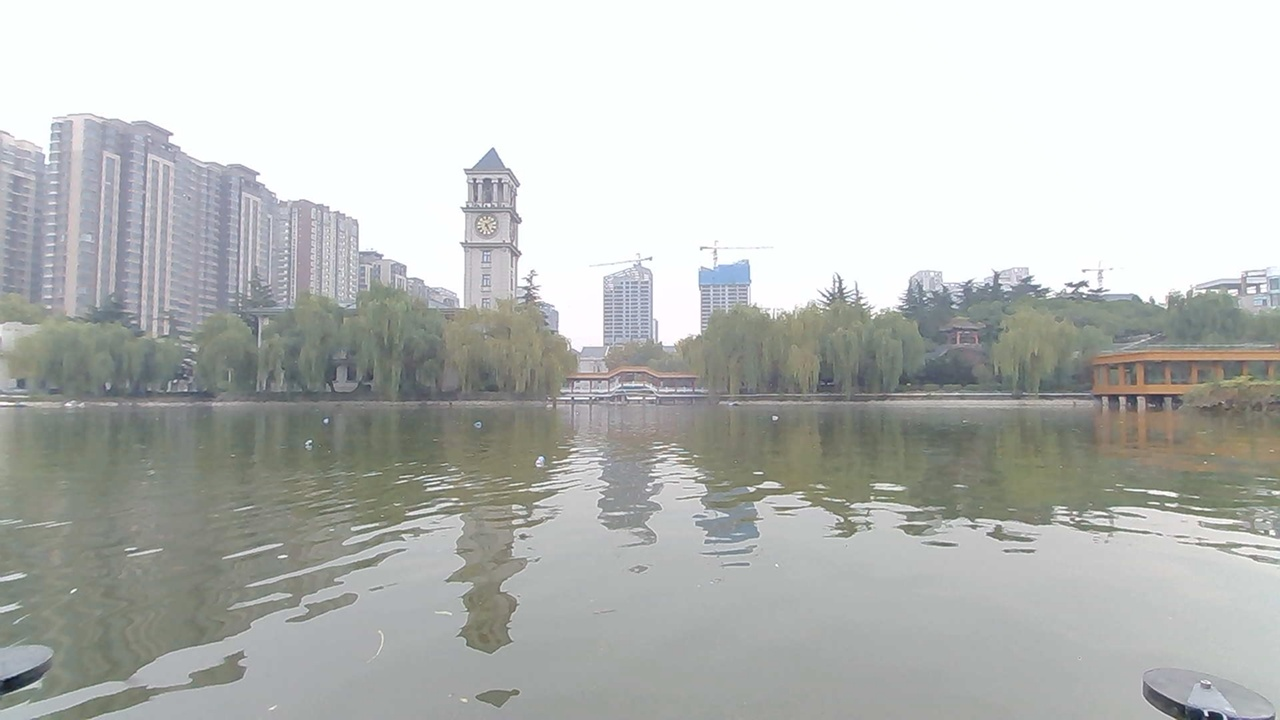bottle: (500, 446, 560, 479), (293, 428, 334, 451), (757, 403, 796, 426), (462, 407, 499, 431), (318, 404, 354, 428)
